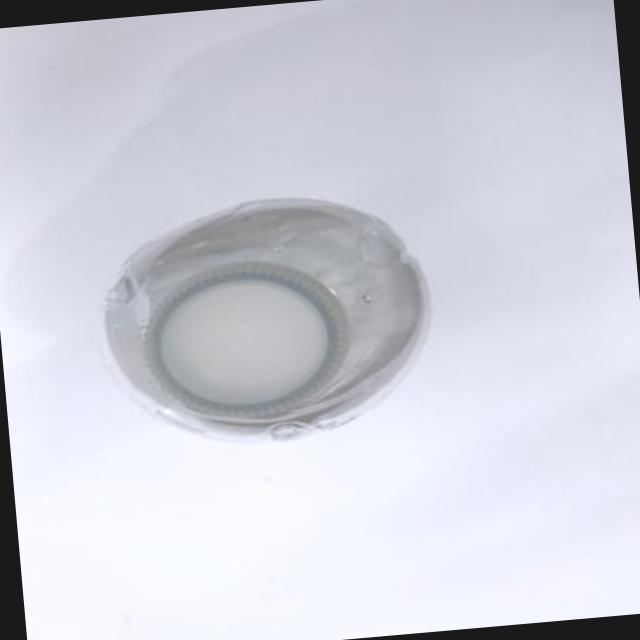plastic: (111, 220, 464, 423)
